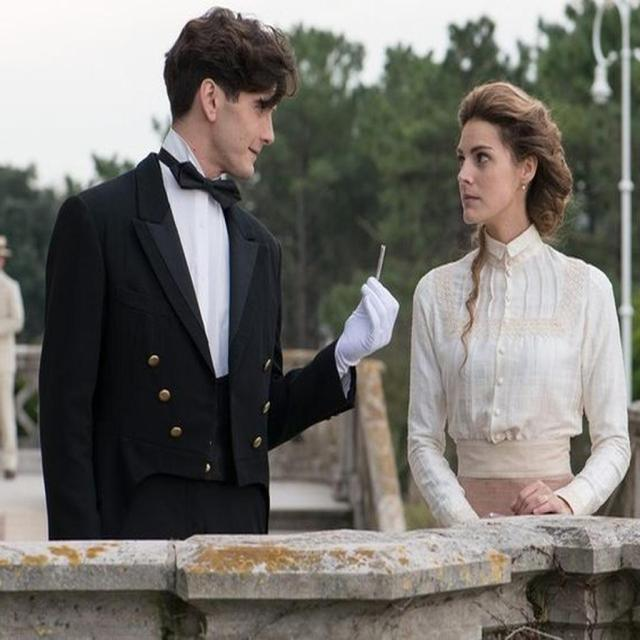smoking: (159, 11, 395, 370)
